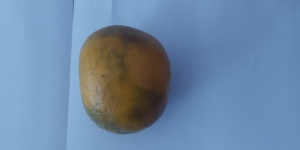BAD: (78, 22, 171, 140)
